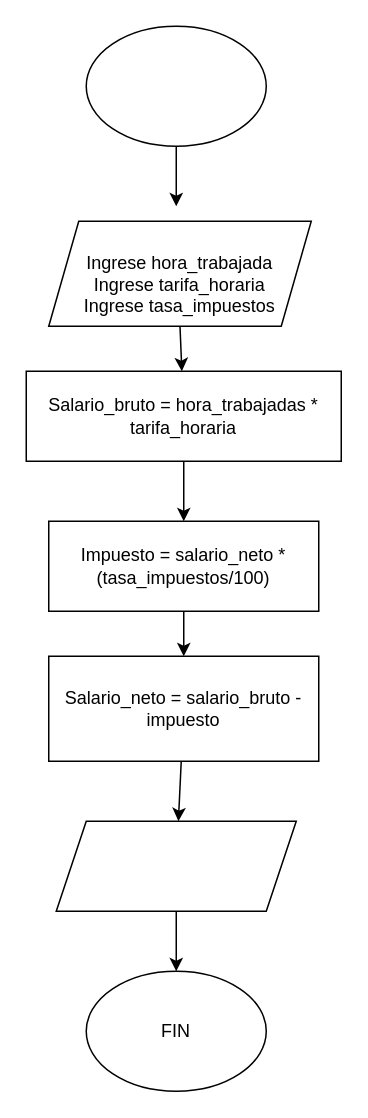
Some shapes in this 368 by 1118 pixel diagram are drawn without their labels. Each missing label, with the centre of its shape:
"INICIO" goes at (x=175, y=85).
"Mostrar salario Neto" goes at (x=175, y=865).
